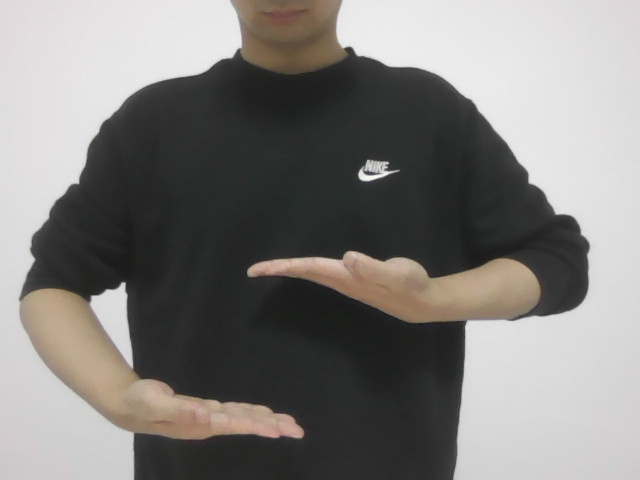happy: (121, 244, 446, 447)
